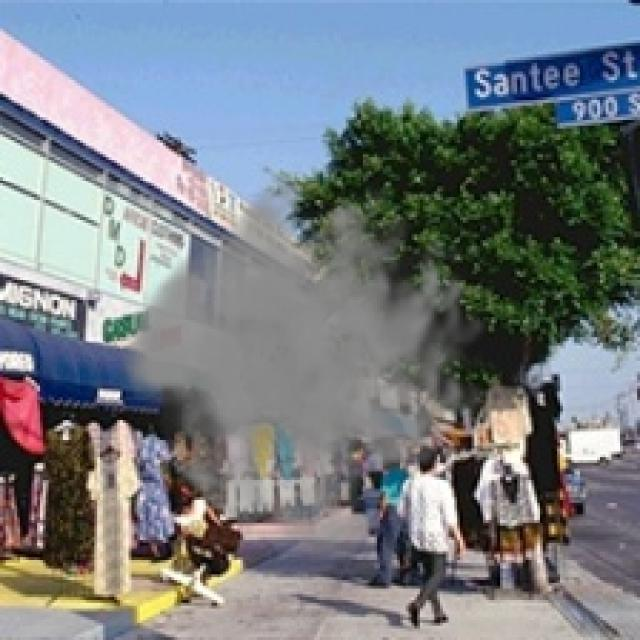Smoke: (117, 163, 489, 566)
